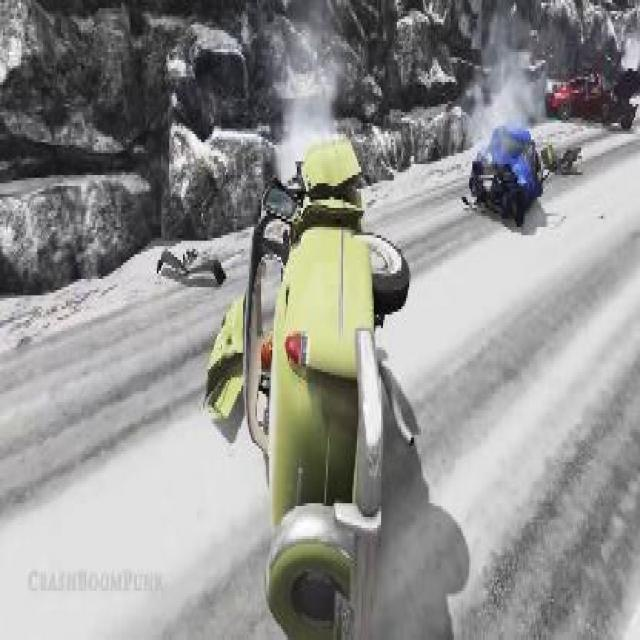accident: (197, 117, 411, 640)
